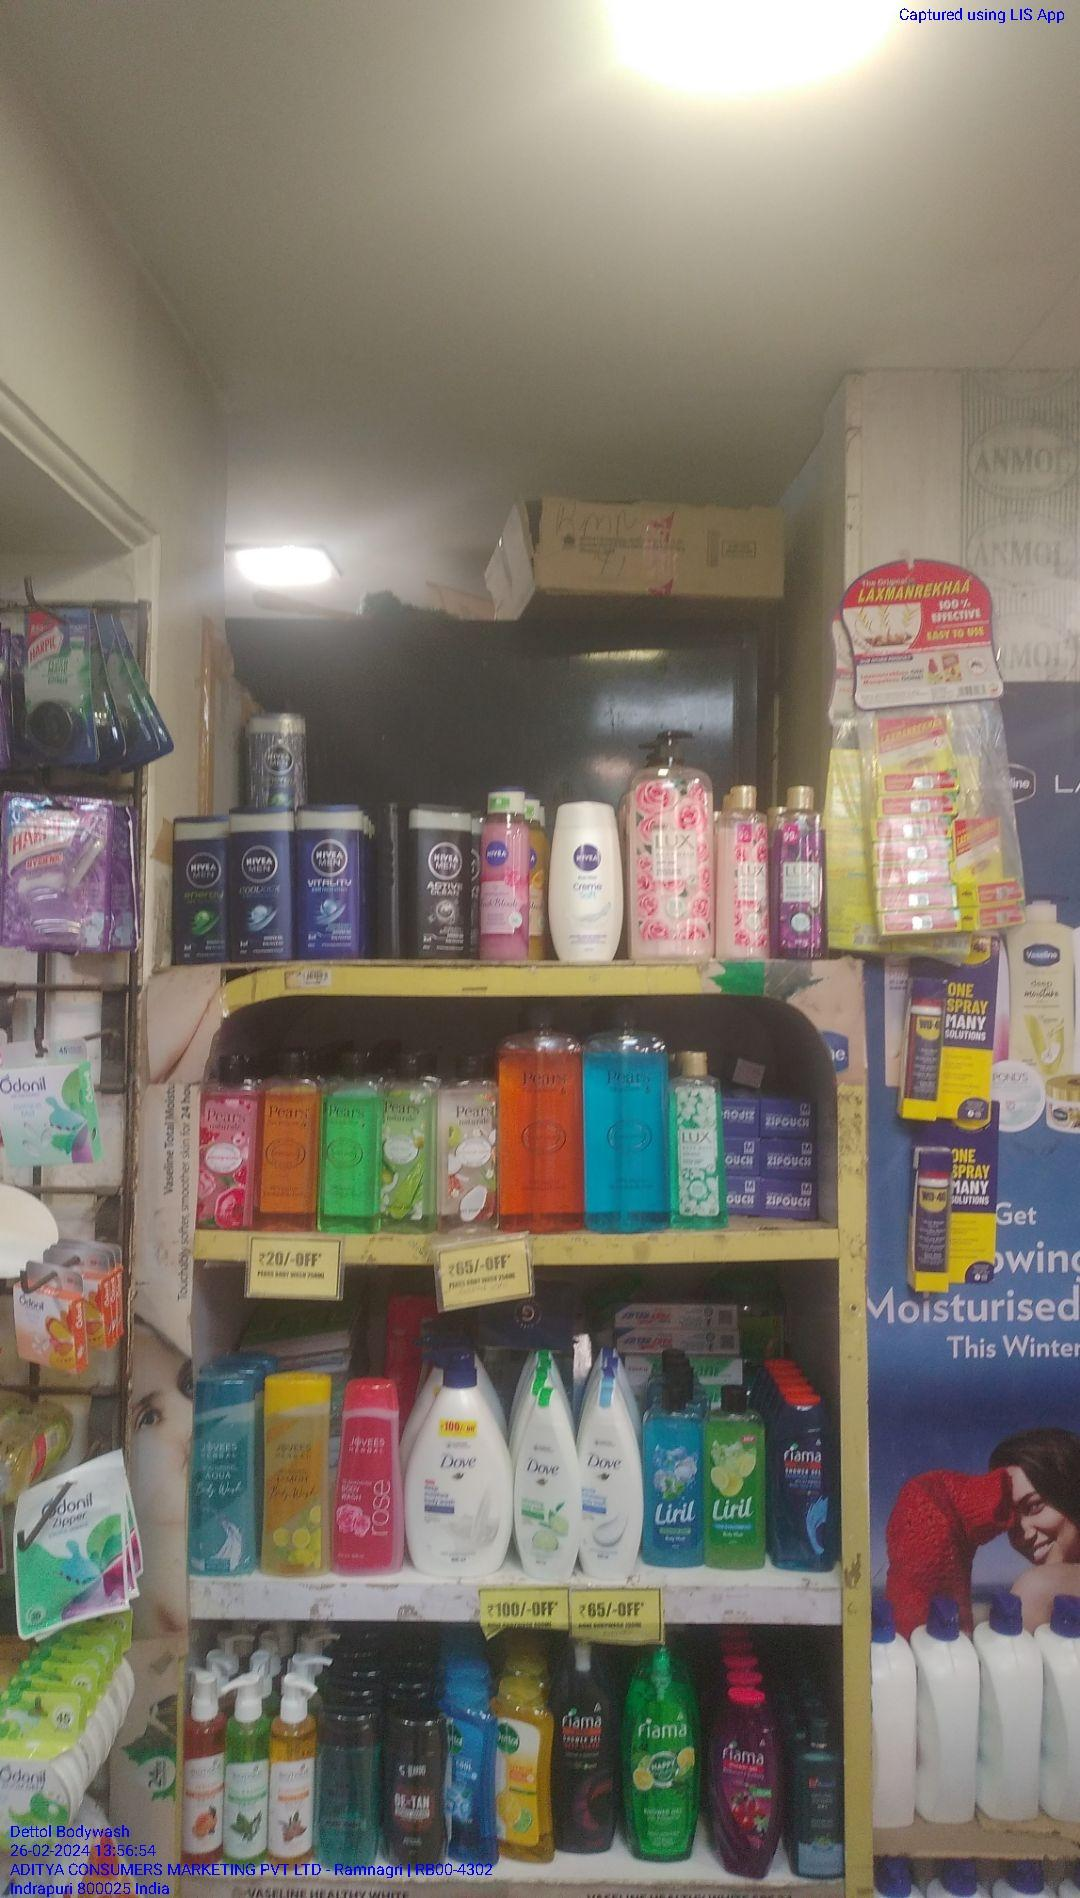Dettol_Bodywash_Cool: (442, 1687, 500, 1868)
Dettol_Bodywash_Refresh: (496, 1678, 558, 1865)
Dove_Gentle_Exfoliating_Body_Wash_250ML: (577, 1391, 643, 1584)
Dove_Refreshing_Body_Wash_250ML: (513, 1383, 578, 1580)
Lux_Black_Orchid_Scent_and_Juniper_Oil_Body_Wash_245ML: (773, 782, 830, 961)
Lux_Body_Wash_Skin_Detox_Freesia_Scent_and_Alove_Vera_245ML: (667, 1053, 729, 1231)
Nivea_Creme_Soft_Body_Wash_250ML: (548, 798, 623, 966)
Pears_Naturale_Aloe_Vera_Body_Wash_250ML: (317, 1048, 383, 1234)
